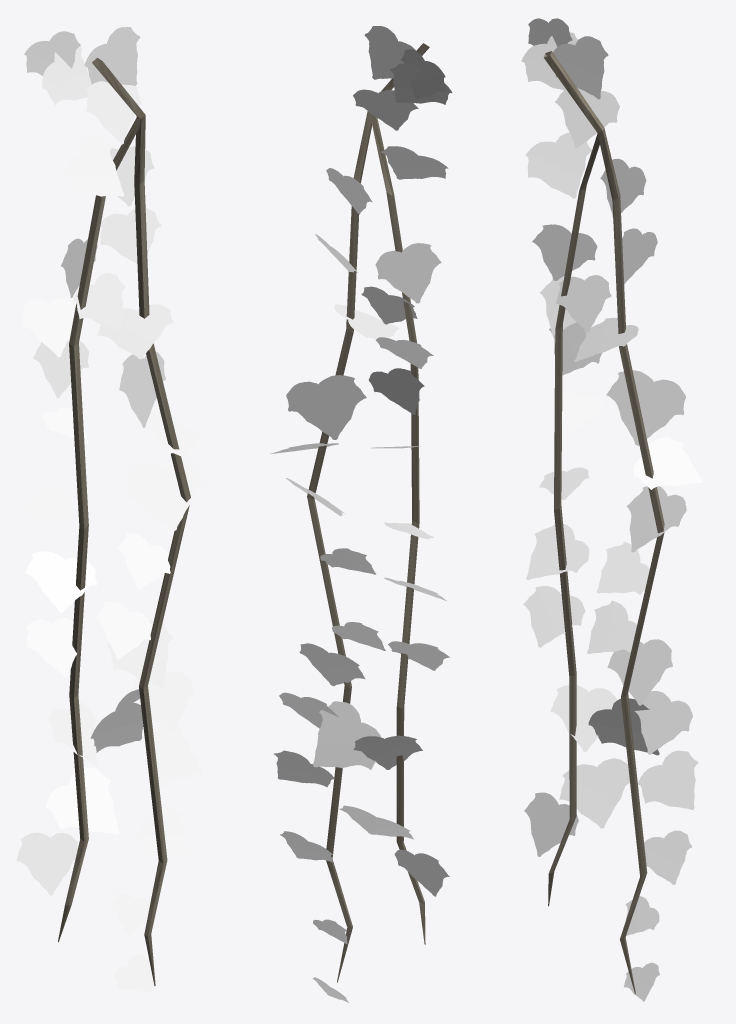
File: Ivy_A_02.fbx
3 views of the same model, side by side, from view 1: azimuth 30°, elevation 25°; view 2: azimuth 150°, elevation 25°; view 3: azimuth 330°, elevation 25° (orthographic). The views are drawn at different scales.
Parts seen in each view (by area): view 1: Ivy_A_02; view 2: Ivy_A_02; view 3: Ivy_A_02.
Part boxes in pixels (bbox=[...]): Ivy_A_02: bbox=[16, 27, 203, 992]; Ivy_A_02: bbox=[270, 26, 452, 1002]; Ivy_A_02: bbox=[521, 18, 702, 1001].
Size of the model in its own units: 89.54 by 409 by 49.49.
Materials: 2 (2 with a texture image).
